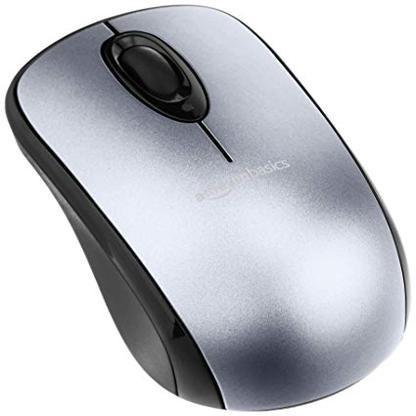not trash: (5, 1, 413, 407)
